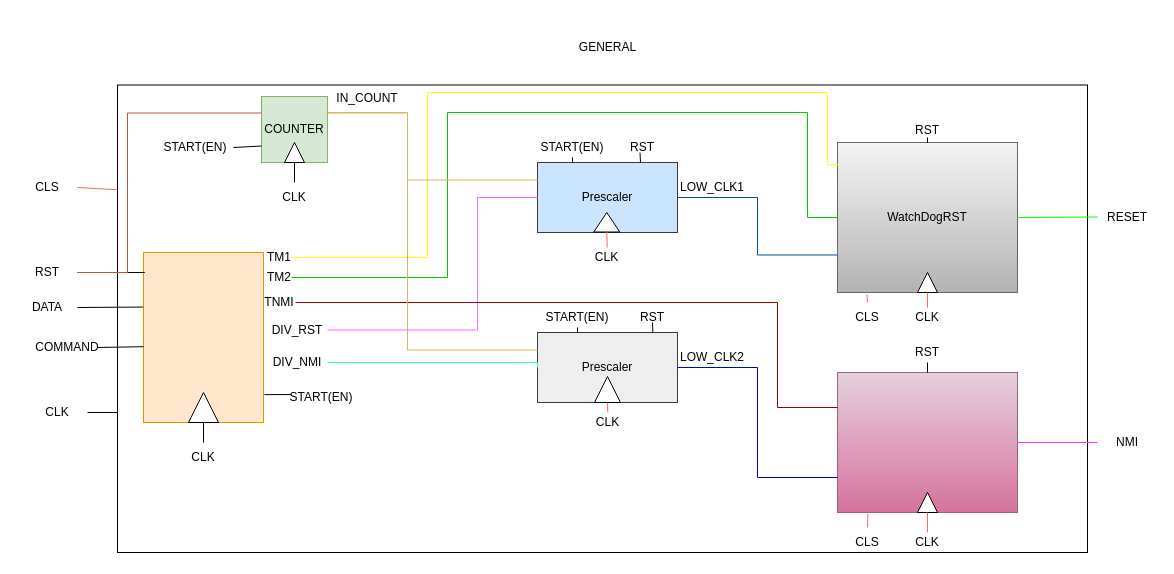
This 1174x574 diagram has some shape labels left out. The box of each missing label's shape, as (x1, y1, x2, y2) in pixels:
COMMAND SELECT: (142, 252, 264, 422)
WatchDogNMI: (836, 372, 1018, 512)
